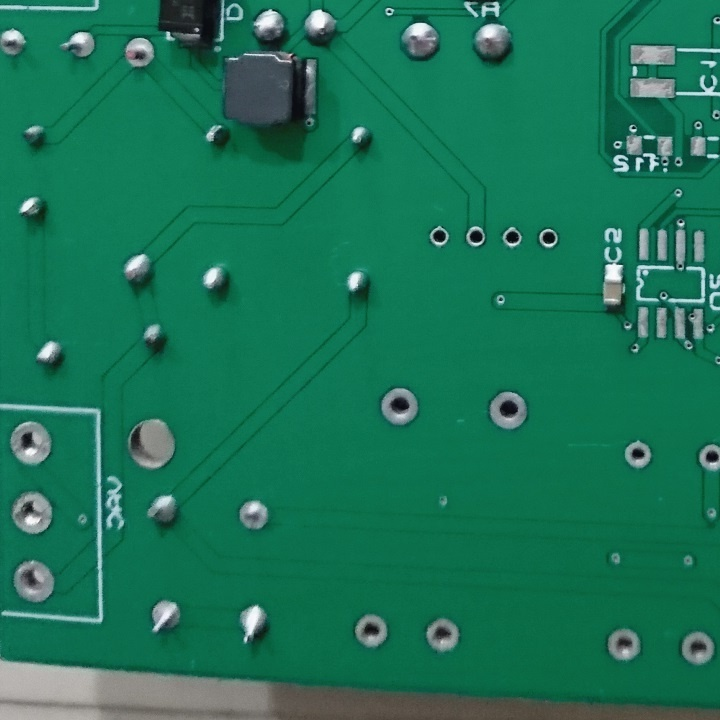F: (7, 415, 54, 472), (10, 557, 63, 606), (9, 487, 56, 538), (376, 383, 422, 430), (486, 389, 530, 432), (421, 615, 464, 657), (349, 612, 390, 654), (675, 629, 716, 669), (604, 625, 640, 666), (57, 29, 99, 64), (120, 36, 159, 71), (147, 600, 184, 636), (233, 500, 274, 532), (1, 26, 33, 60), (624, 438, 653, 472), (694, 440, 720, 475), (499, 223, 524, 252), (462, 224, 487, 250), (534, 225, 560, 250), (427, 223, 450, 249)
